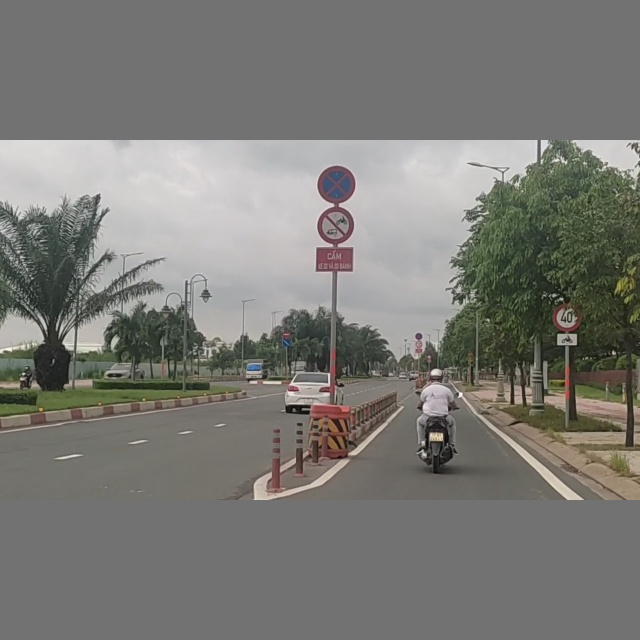P.111: (314, 205, 355, 245)
P.127*40: (553, 302, 582, 332)
P.130: (314, 161, 357, 204)
S.505a*Xe may: (555, 330, 579, 346)
